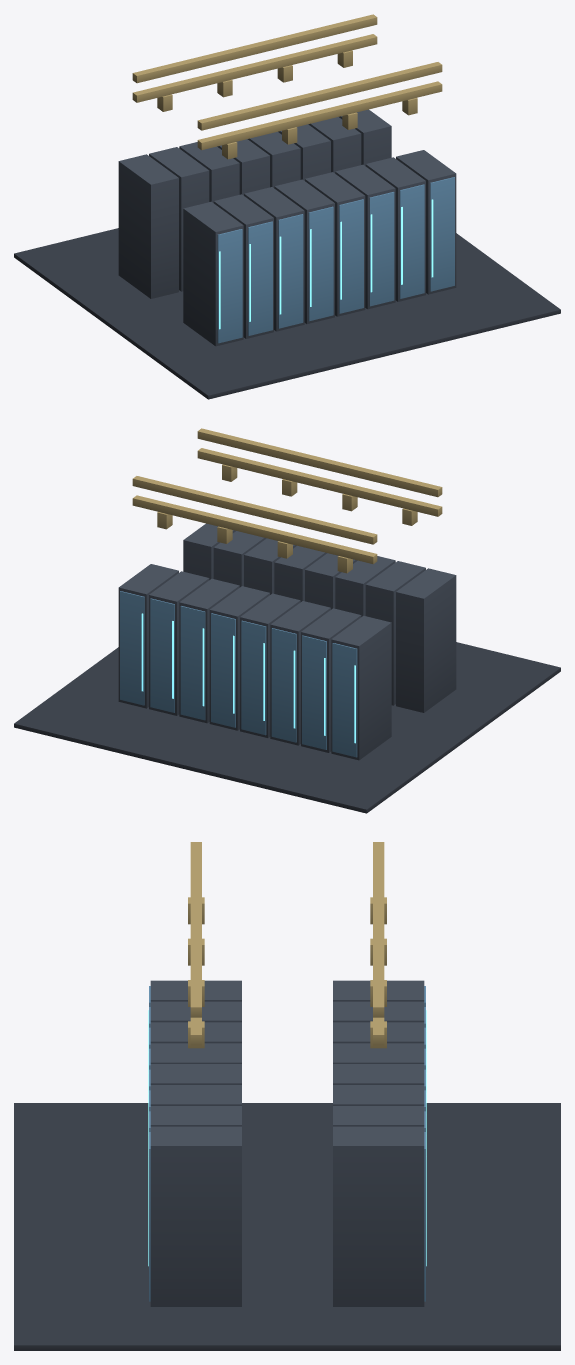
File: dgx-b300.glb
3 renders of one model, top to bottom at view 1: azimuth 30°, elevation 25°; view 2: azimuth 150°, elevation 25°; view 3: azimuth 270°, elevation 25°, orthographic. The views are drawn at different scales.
Parts seen in each view (by area): view 1: floor, rack-B1, rack-A1, busway-A1, busway-A2, busway-B1, busway-B2, rack-A3-door, rack-A6-door, rack-A1-door, rack-A4-door, rack-A2-door (+17 smaller); view 2: floor, rack-A1, rack-B1, busway-B1, busway-B2, busway-A1, busway-A2, rack-B3-door, rack-B6-door, rack-B1-door, rack-B4-door, rack-B2-door (+17 smaller); view 3: floor, rack-A8, rack-B8, busway-A2, busway-B2, rack-A5, rack-A6, rack-A7, rack-B5, rack-B6, rack-B7, rack-A4 (+7 smaller).
Boxes of the visible parts, <box> form: floor: <box>14,228,560,399</box>; rack-B1: <box>118,154,178,298</box>; rack-A1: <box>183,201,243,346</box>; busway-A1: <box>197,81,442,150</box>; busway-A2: <box>197,62,442,130</box>; busway-B1: <box>132,34,377,102</box>; busway-B2: <box>132,14,377,83</box>; rack-A3-door: <box>278,214,303,328</box>; rack-A6-door: <box>369,192,394,306</box>; rack-A1-door: <box>217,229,242,343</box>; rack-A4-door: <box>308,206,333,321</box>; rack-A2-door: <box>248,221,272,335</box>; floor: <box>14,642,560,813</box>; rack-A1: <box>396,568,456,712</box>; rack-B1: <box>331,615,391,760</box>; busway-B1: <box>132,495,377,564</box>; busway-B2: <box>132,476,377,544</box>; busway-A1: <box>197,448,442,516</box>; busway-A2: <box>197,428,442,497</box>; rack-B3-door: <box>271,628,296,742</box>; rack-B6-door: <box>180,606,205,720</box>; rack-B1-door: <box>332,643,357,757</box>; rack-B4-door: <box>241,620,266,735</box>; rack-B2-door: <box>302,635,326,749</box>; floor: <box>14,1103,560,1350</box>; rack-A8: <box>150,1126,241,1306</box>; rack-B8: <box>333,1126,424,1306</box>; busway-A2: <box>190,842,201,1017</box>; busway-B2: <box>373,842,384,1017</box>; rack-A5: <box>150,1064,241,1084</box>; rack-A6: <box>150,1085,241,1105</box>; rack-A7: <box>150,1106,241,1126</box>; rack-B5: <box>333,1064,424,1084</box>; rack-B6: <box>333,1085,424,1105</box>; rack-B7: <box>333,1106,424,1126</box>; rack-A4: <box>150,1043,241,1063</box>.
Size of the model in its own units: 7.55 by 4.43 by 7.2.
